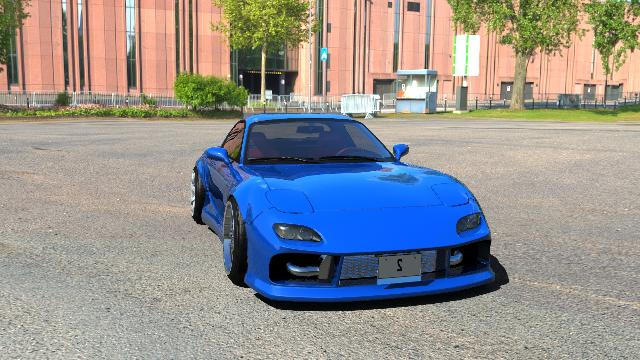License Plate: (378, 253, 420, 281)
